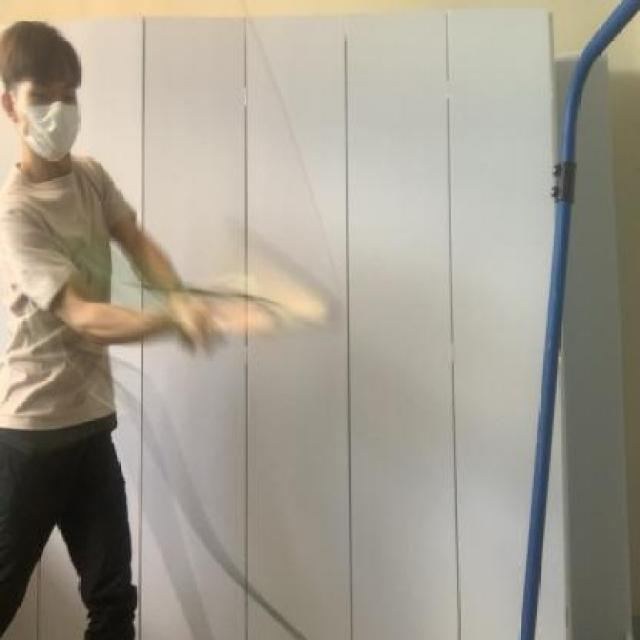baseball: (68, 234, 174, 301)
